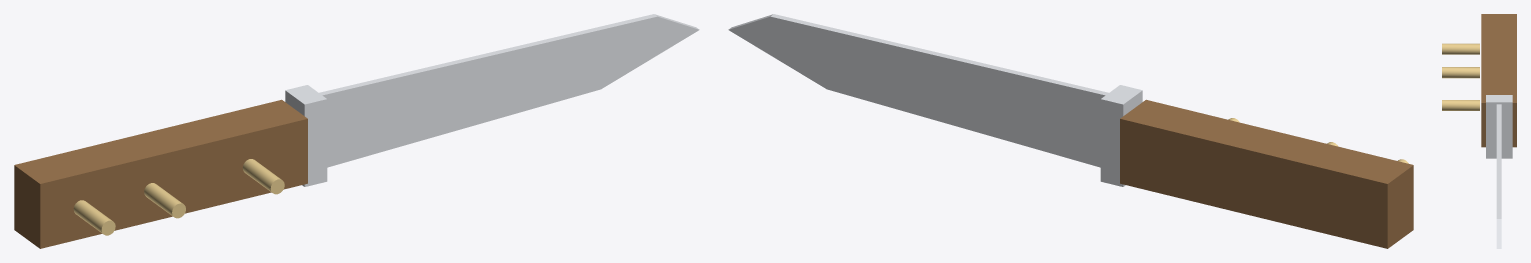
The model's file is knife.glb.
The picture shows the model from 3 angles, left to right: view 1: azimuth 30°, elevation 25°; view 2: azimuth 150°, elevation 25°; view 3: azimuth 270°, elevation 25°; orthographic projection. The views are drawn at different scales.
Visible parts, largest first — view 1: knife; view 2: knife; view 3: knife.
Boxes of the visible parts, x1,y1,x2,y2 form: knife: (14, 14, 699, 248); knife: (728, 14, 1413, 248); knife: (1442, 14, 1516, 248).
Size of the model in its own units: 0.238 by 0.028 by 0.0338.
